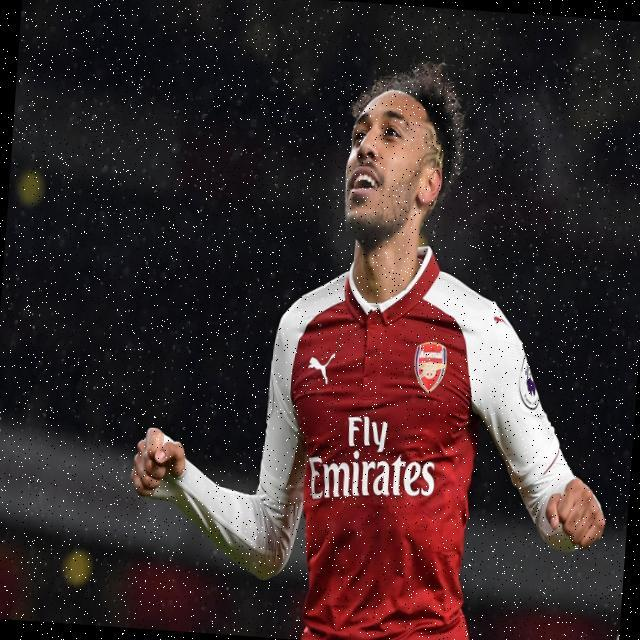Emirates: (305, 446, 435, 510)
Puma: (306, 350, 336, 385)
